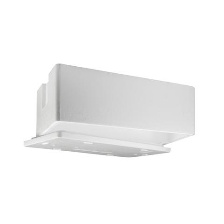foam_box: (16, 56, 202, 166)
